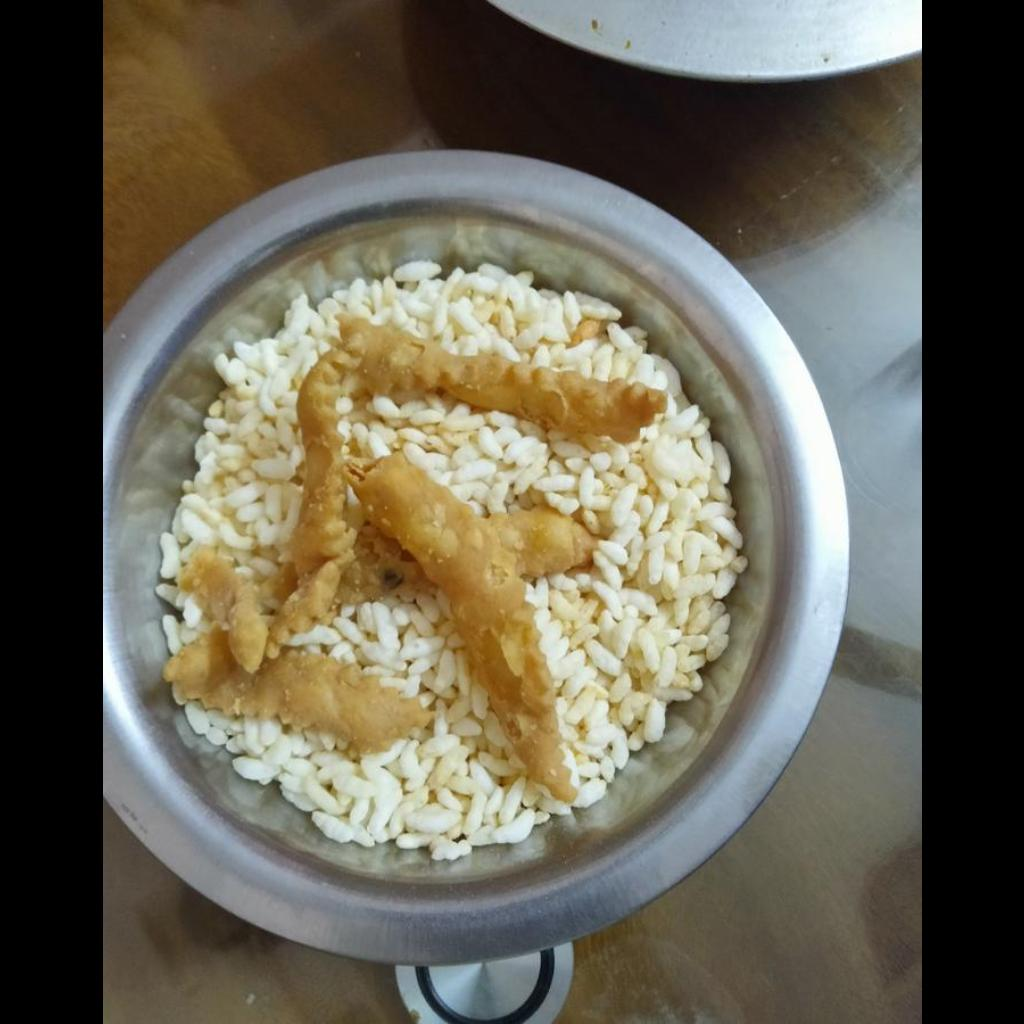chomchom: (165, 316, 662, 811)
puffed-rice: (155, 263, 755, 862)
